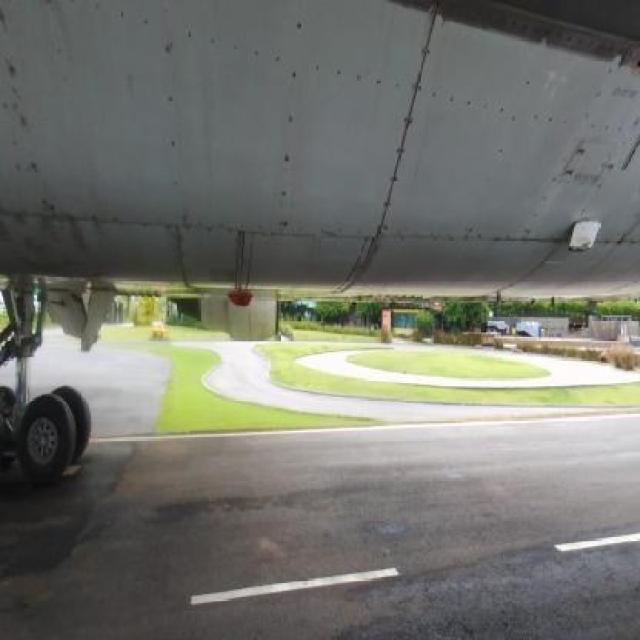Missing-Rivet: (0, 46, 65, 232), (522, 62, 633, 143), (318, 225, 559, 260), (378, 72, 424, 228), (77, 206, 245, 243), (280, 15, 308, 226), (160, 11, 185, 214), (429, 82, 522, 132), (187, 23, 282, 68), (461, 143, 512, 226), (526, 152, 577, 232), (87, 1, 167, 39), (313, 56, 375, 99), (408, 1, 446, 67)
Scartch: (20, 202, 92, 280), (4, 61, 27, 95), (12, 108, 36, 135)
